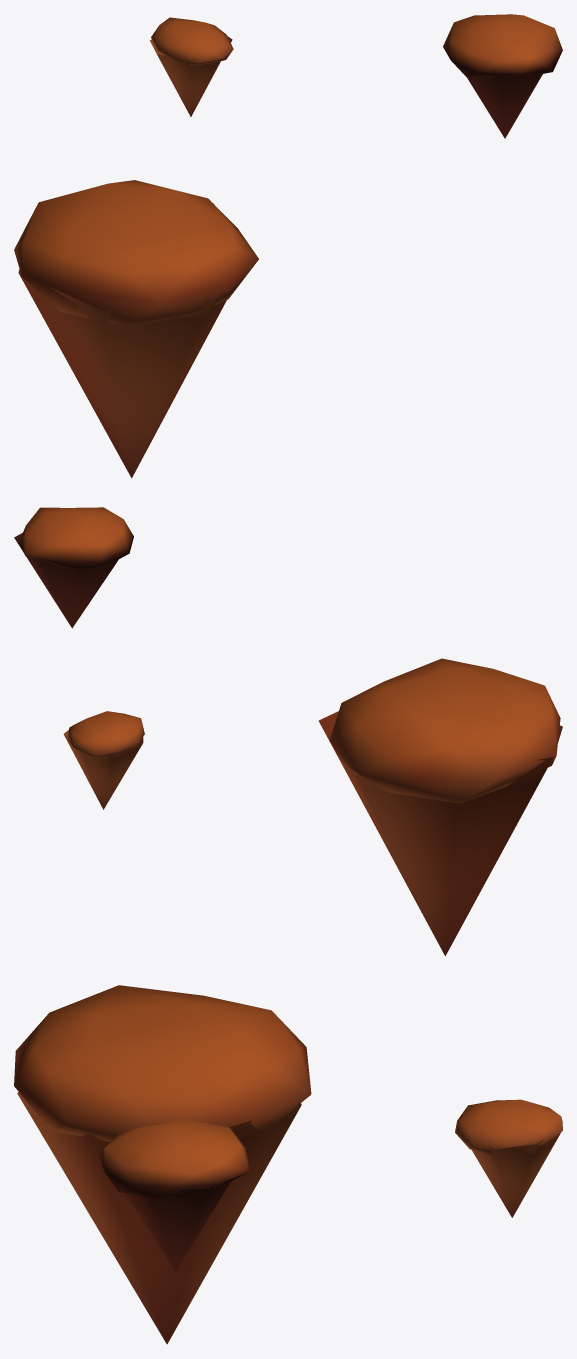
The model's file is MODULE_DESERT_VOID_ROCKS.fbx.
3 views of the same model, one above another, from view 1: azimuth 30°, elevation 25°; view 2: azimuth 150°, elevation 25°; view 3: azimuth 270°, elevation 25° (orthographic). The views are drawn at different scales.
Parts seen in each view (by area): view 1: MODULE_DESERT_VOID_ROCKS_DECOR__export; view 2: MODULE_DESERT_VOID_ROCKS_DECOR__export; view 3: MODULE_DESERT_VOID_ROCKS_DECOR__export.
Boxes of the visible parts, x1=… form: MODULE_DESERT_VOID_ROCKS_DECOR__export: x1=14, y1=14, x2=562, y2=478; MODULE_DESERT_VOID_ROCKS_DECOR__export: x1=14, y1=507, x2=562, y2=956; MODULE_DESERT_VOID_ROCKS_DECOR__export: x1=14, y1=985, x2=562, y2=1344.
Bounding box in the file's own units: 54.33 × 35.22 × 40.42.
